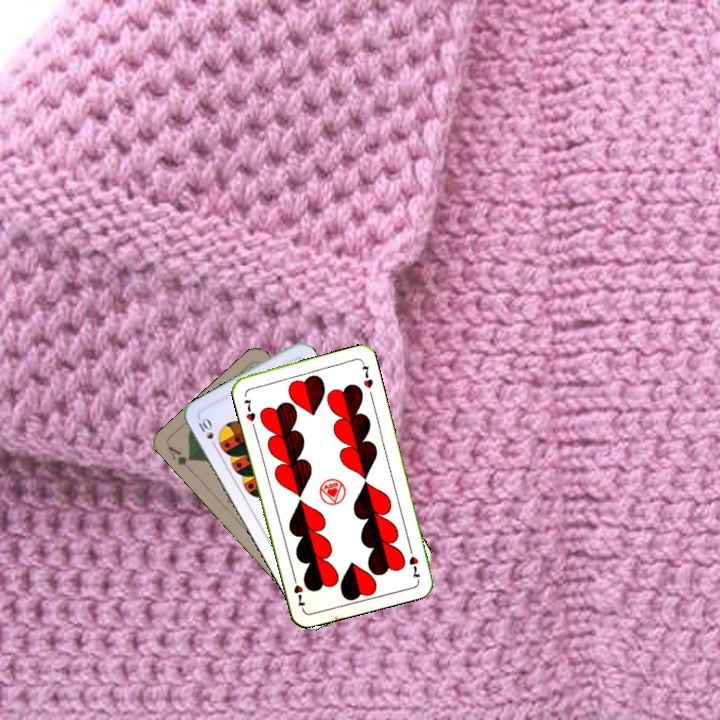GA: (164, 442, 195, 469)
H7: (405, 542, 423, 582), (240, 394, 258, 430)
S10: (194, 413, 220, 452)
